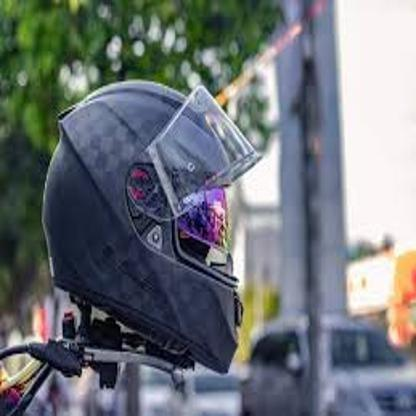not trash: (41, 78, 248, 373)
